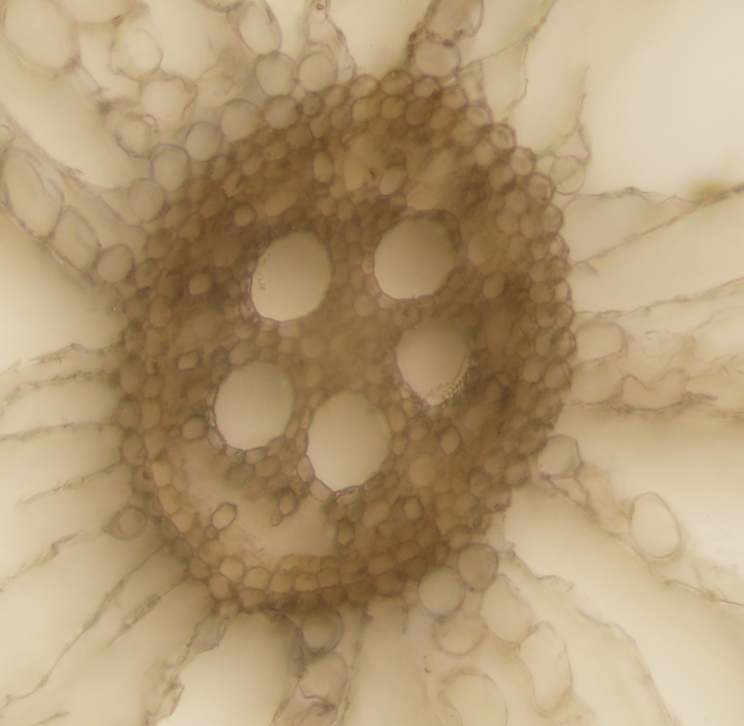lm: (308, 389, 393, 491), (212, 358, 295, 452), (249, 229, 332, 322), (375, 217, 458, 301), (396, 316, 471, 407)
